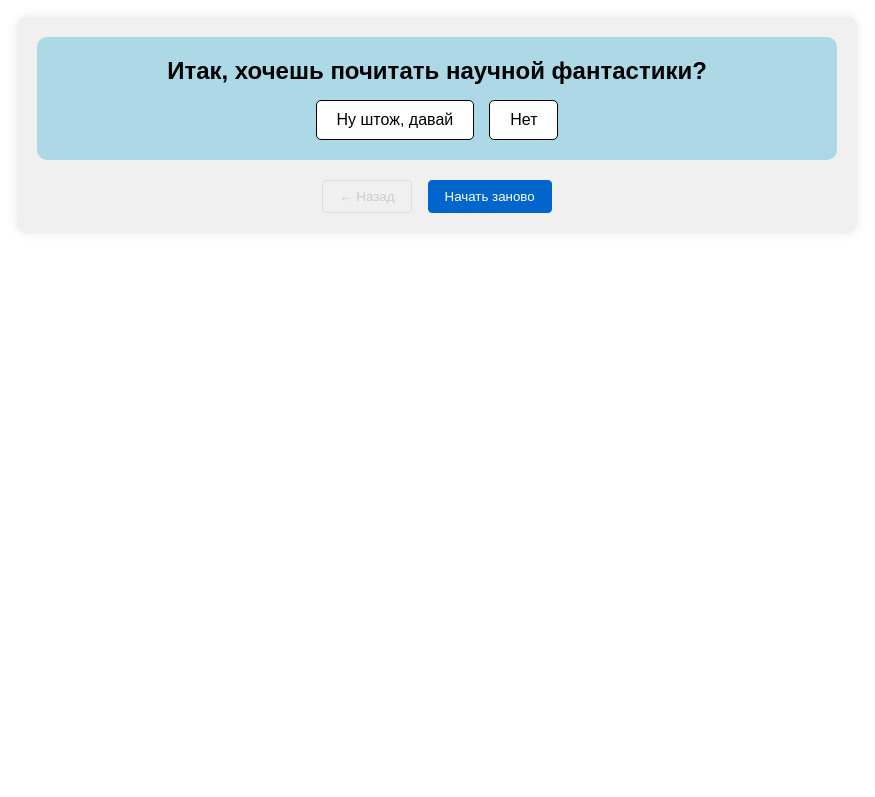
Scenario: Flowchart Component - Unit Tests › Flowchart Component - Integration Tests for Navigation › navigates through a simple path and displays question and result nodes correctly
This screenshot has width=875, height=797.
Expected: the heading "Итак, хочешь почитать научной фантастики?" is shown, [167, 57, 707, 84]
Click the button "Ну штож, давай".
click(395, 120)  # box [316, 100, 474, 140]
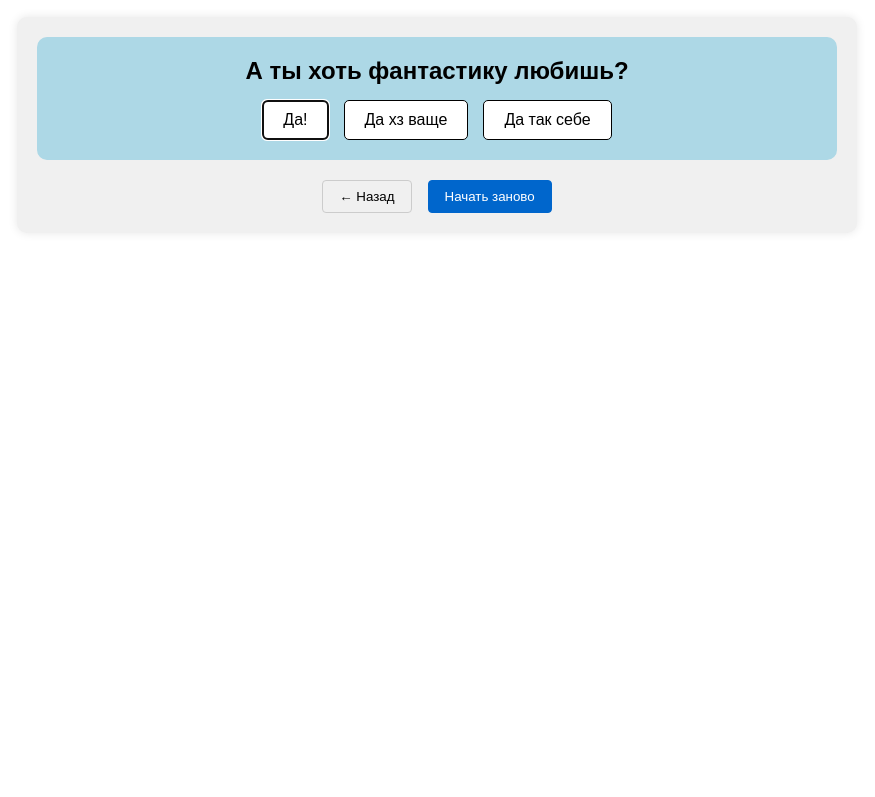
Now the heading "А ты хоть фантастику любишь?" is shown, box [245, 57, 629, 84]
Now the button "Да!" is shown, box [262, 100, 328, 140]
Click the button "Да так себе".
click(548, 120)  # box [483, 100, 612, 140]
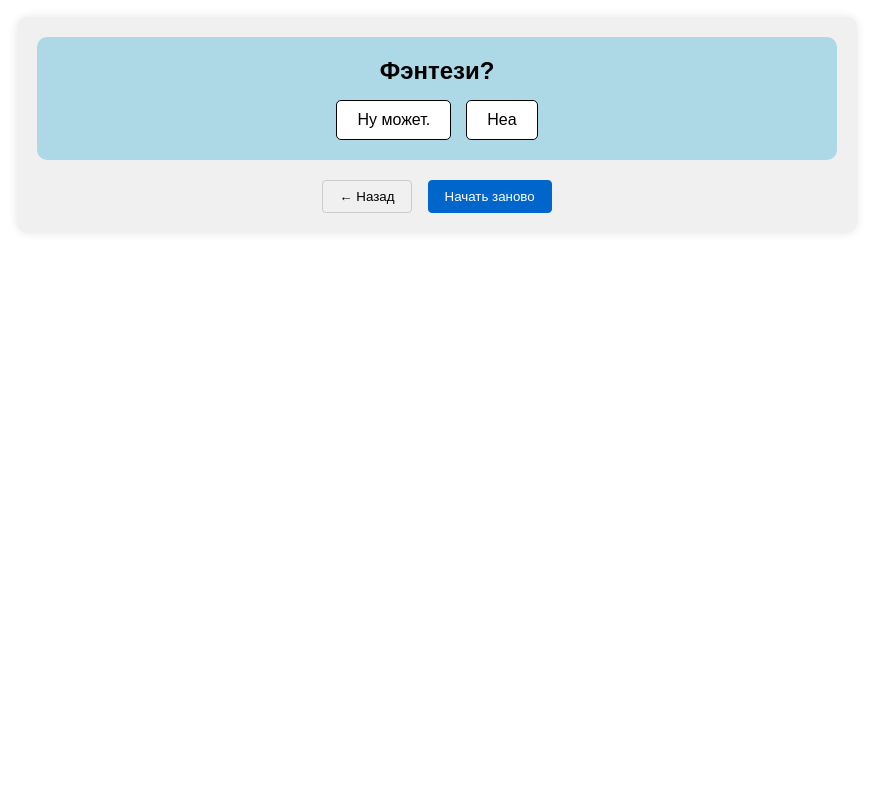
Now the heading "Фэнтези?" is shown, box [380, 57, 494, 84]
Now the button "Ну может." is shown, box [336, 100, 451, 140]
Click the button "Неа".
click(502, 120)  # box [466, 100, 538, 140]
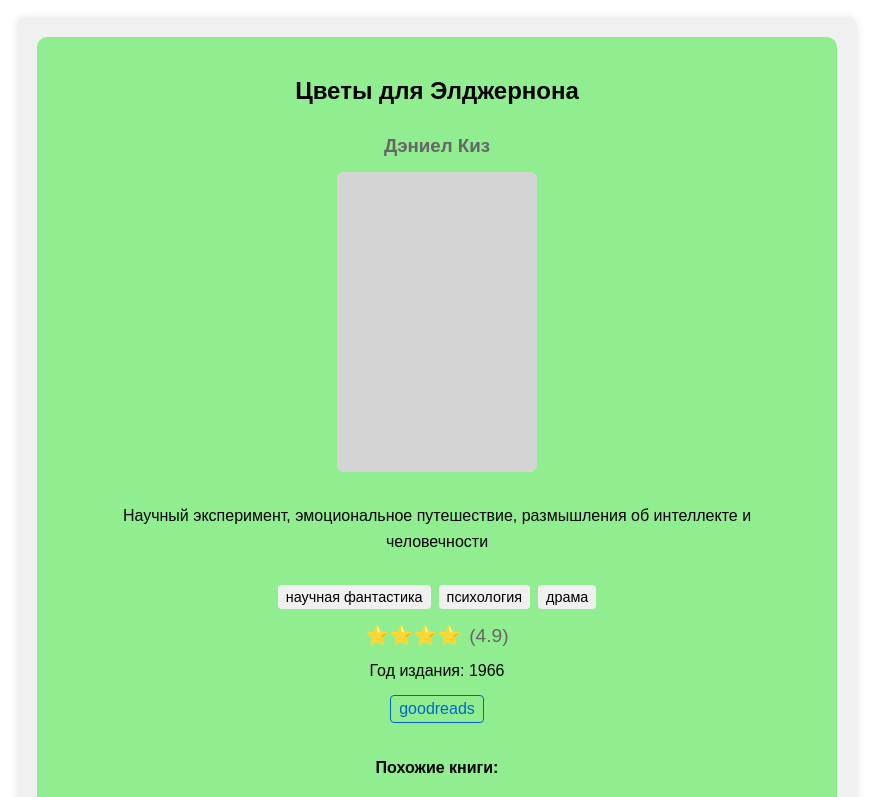
Now the heading "Цветы для Элджернона" is shown, box [295, 77, 579, 105]
Now the heading "Дэниел Киз" is shown, box [384, 135, 490, 157]
Now the text "Научный эксперимент, эмоциональное путешествие" is shown, box [123, 507, 751, 550]
